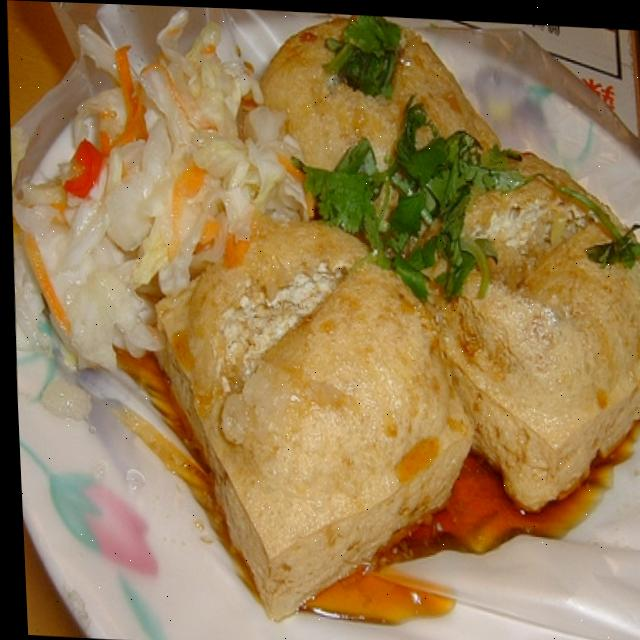豆腐料理: (10, 0, 640, 640)
